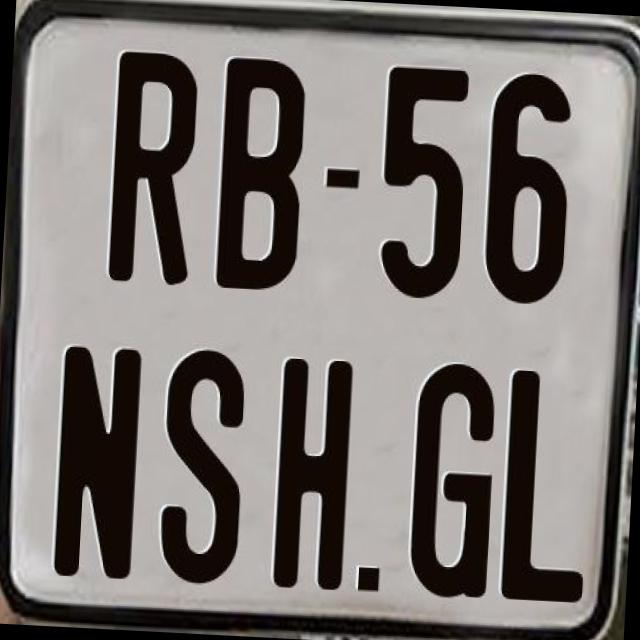5: (373, 61, 467, 300)
6: (481, 71, 576, 315)
B: (214, 52, 306, 288)
G: (404, 359, 498, 601)
H: (272, 357, 356, 589)
L: (498, 365, 598, 600)
N: (50, 342, 148, 580)
R: (108, 50, 199, 286)
S: (154, 344, 246, 585)
